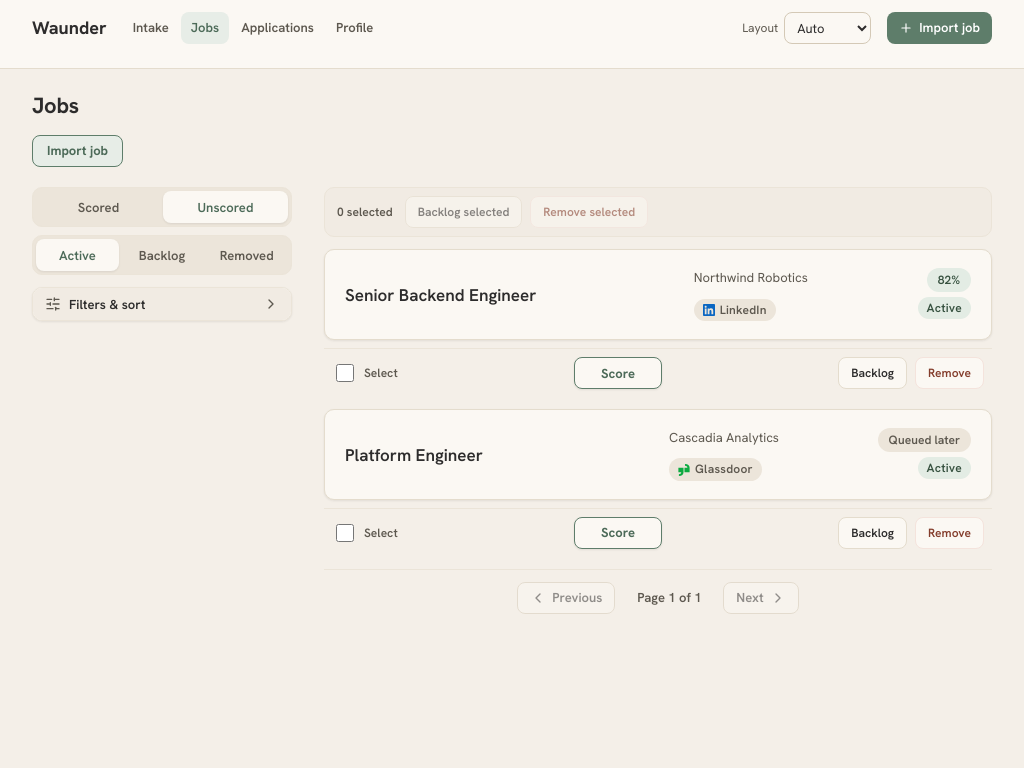
Test case: score on demand › shows the pending state on the requested row and leaves the other alone
The image size is (1024, 768).
Expected: the list with class "job-list-items" is shown, [324,250,992,549]
Click the button "Score" below "Senior Backend Engineer".
click(618, 373)  # box [574,357,662,389]
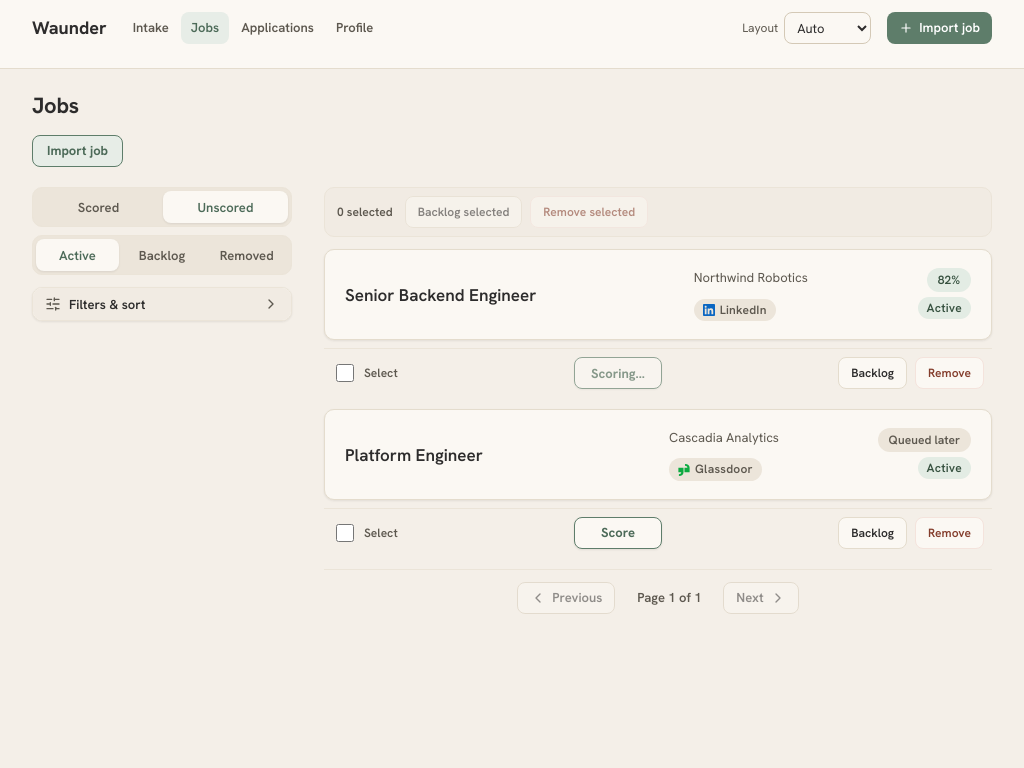
Expected: the button "Score" is enabled, [574,517,662,549]
Expected: the button "Scoring..." is disabled, [574,357,662,389]
